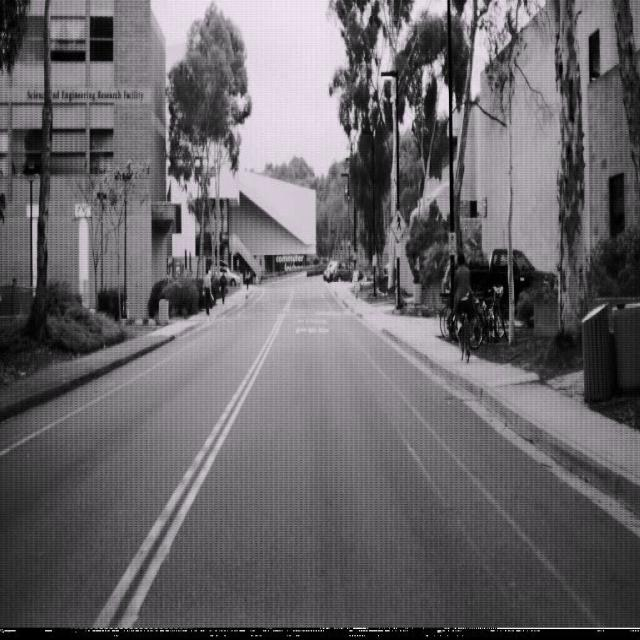pedestrianCrossing: (389, 208, 406, 240)
